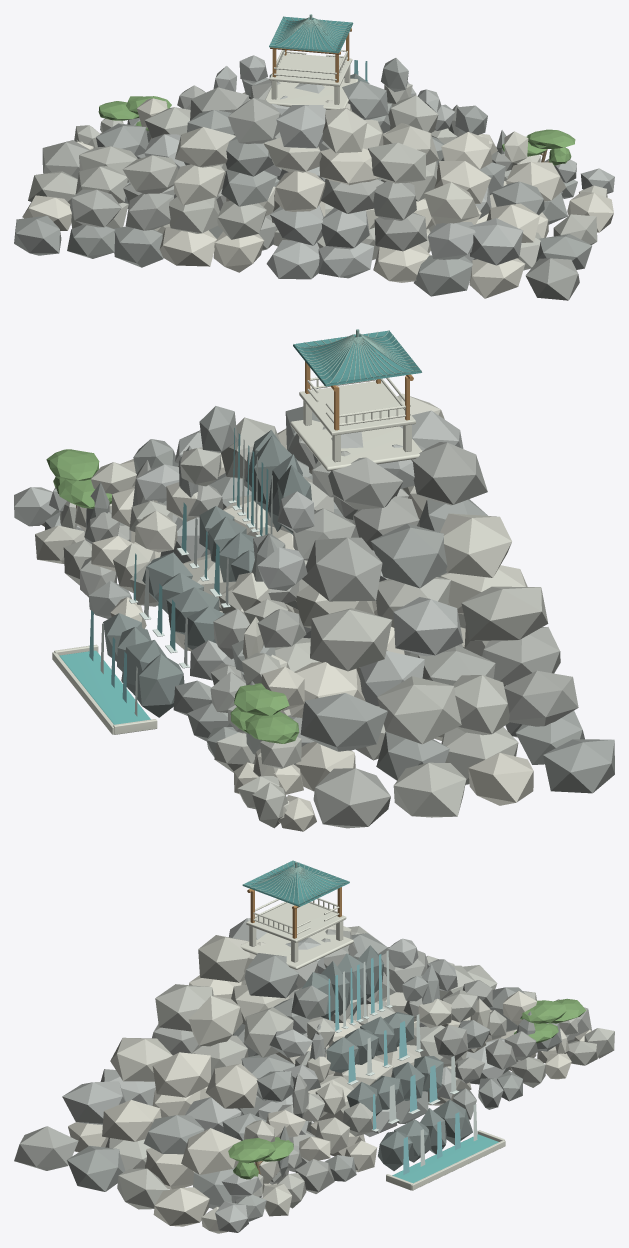
Rendered from landmark.glb.
3 views of the same model, one above another, from view 1: azimuth 30°, elevation 25°; view 2: azimuth 150°, elevation 25°; view 3: azimuth 270°, elevation 25° (orthographic). The views are drawn at different scales.
Parts seen in each view (by area): view 1: Stacked structural rock 1 4 8, Stacked structural rock 3 3 4, Stacked structural rock 4 2 1, Stacked structural rock 4 2 0, Stacked structural rock 0 4 8, Stacked structural rock 0 4 10, Stacked structural rock 0 4 3, Raised pavilion floor, Stacked structural rock 3 3 0, Stacked structural rock 2 3 3, Stacked structural rock 0 4 5, Stacked structural rock 2 3 1 (+65 smaller); view 2: Stacked structural rock 3 1 0, Stacked structural rock 1 2 0, Stacked structural rock 2 1 0, Stacked structural rock 2 3 0, Stacked structural rock 1 1 0, Stacked structural rock 3 3 0, Stacked structural rock 0 1 0, Stacked structural rock 4 2 0, Stacked structural rock 3 2 0, Raised pavilion floor, Stacked structural rock 0 2 0, Stacked structural rock 0 4 0 (+80 smaller); view 3: Stacked structural rock 2 2 6, Raised pavilion floor, Stacked structural rock 0 4 10, Stacked structural rock 0 3 10, Stacked structural rock 3 2 4, Stacked structural rock 4 2 2, Stacked structural rock 2 3 6, Stacked structural rock 4 1 2, Stacked structural rock 1 1 8, Stacked structural rock 1 4 8, Stacked structural rock 3 3 4, Stacked structural rock 2 1 6 (+84 smaller).
Boxes of the visible parts, x1=… form: Stacked structural rock 1 4 8: x1=469, y1=218, x2=522, y2=265; Stacked structural rock 3 3 4: x1=368, y1=142, x2=425, y2=183; Stacked structural rock 4 2 1: x1=276, y1=105, x2=325, y2=148; Stacked structural rock 4 2 0: x1=228, y1=98, x2=280, y2=143; Stacked structural rock 0 4 8: x1=414, y1=255, x2=472, y2=296; Stacked structural rock 0 4 10: x1=525, y1=258, x2=579, y2=300; Stacked structural rock 0 4 3: x1=159, y1=226, x2=216, y2=266; Raised pavilion floor: x1=269, y1=53, x2=352, y2=86; Stacked structural rock 3 3 0: x1=175, y1=127, x2=235, y2=167; Stacked structural rock 2 3 3: x1=274, y1=171, x2=325, y2=211; Stacked structural rock 0 4 5: x1=266, y1=240, x2=319, y2=279; Stacked structural rock 2 3 1: x1=174, y1=164, x2=225, y2=205; Stacked structural rock 3 1 0: x1=302, y1=537, x2=382, y2=601; Stacked structural rock 1 2 0: x1=377, y1=676, x2=461, y2=744; Stacked structural rock 2 1 0: x1=310, y1=608, x2=392, y2=671; Stacked structural rock 2 3 0: x1=461, y1=586, x2=548, y2=641; Stacked structural rock 1 1 0: x1=300, y1=693, x2=387, y2=751; Stacked structural rock 3 3 0: x1=440, y1=513, x2=511, y2=577; Stacked structural rock 0 1 0: x1=313, y1=768, x2=390, y2=828; Stacked structural rock 4 2 0: x1=411, y1=442, x2=487, y2=505; Stacked structural rock 3 2 0: x1=370, y1=523, x2=447, y2=588; Raised pavilion floor: x1=299, y1=381, x2=415, y2=435; Stacked structural rock 0 2 0: x1=393, y1=762, x2=466, y2=817; Stacked structural rock 0 4 0: x1=543, y1=739, x2=614, y2=793; Stacked structural rock 2 2 6: x1=152, y1=1052, x2=210, y2=1097; Raised pavilion floor: x1=246, y1=902, x2=346, y2=942; Stacked structural rock 0 4 10: x1=14, y1=1126, x2=78, y2=1170; Stacked structural rock 0 3 10: x1=67, y1=1146, x2=125, y2=1191; Stacked structural rock 3 2 4: x1=188, y1=996, x2=242, y2=1046; Stacked structural rock 4 2 2: x1=198, y1=935, x2=250, y2=982; Stacked structural rock 2 3 6: x1=110, y1=1037, x2=172, y2=1081; Stacked structural rock 4 1 2: x1=244, y1=953, x2=298, y2=998; Stacked structural rock 1 1 8: x1=181, y1=1128, x2=240, y2=1174; Stacked structural rock 1 4 8: x1=62, y1=1081, x2=125, y2=1124; Stacked structural rock 3 3 4: x1=155, y1=984, x2=213, y2=1031; Stacked structural rock 2 1 6: x1=205, y1=1063, x2=258, y2=1108.
Size of the model in its own units: 51.53 by 23.05 by 49.43.
